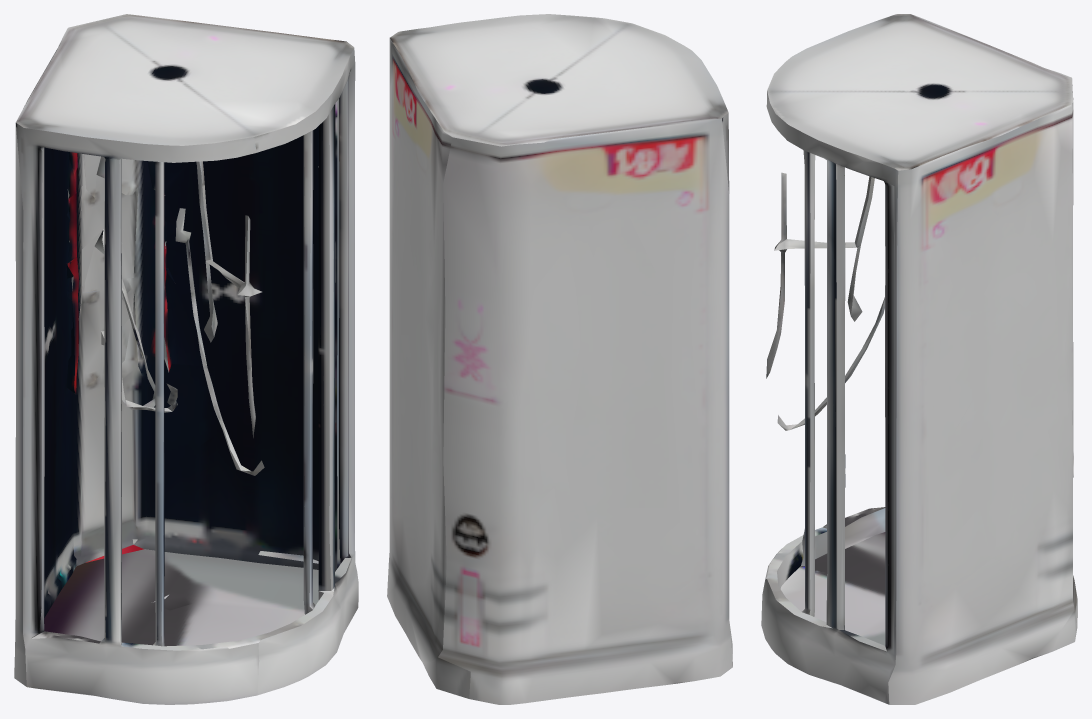
File: Douche3_3D_textured.glb
The picture shows the model from 3 angles, left to right: view 1: azimuth 30°, elevation 25°; view 2: azimuth 150°, elevation 25°; view 3: azimuth 270°, elevation 25°; orthographic projection. The views are drawn at different scales.
Parts seen in each view (by area): view 1: temp_mesh.ply; view 2: temp_mesh.ply; view 3: temp_mesh.ply.
Part boxes in pixels (left/top/right/bottom): temp_mesh.ply: left=14, top=14, right=358, bottom=704; temp_mesh.ply: left=387, top=14, right=732, bottom=704; temp_mesh.ply: left=761, top=14, right=1077, bottom=704.
Size of the model in its own units: 1.23 by 1.97 by 1.06.
1 material, 1 textured.
